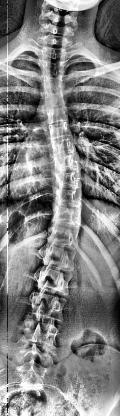Vertebrae: (6, 324, 72, 346), (14, 297, 80, 318), (29, 269, 80, 289), (34, 248, 86, 266), (43, 227, 85, 245), (47, 209, 90, 225), (51, 190, 89, 206), (50, 156, 86, 170), (33, 63, 75, 74), (36, 78, 73, 90), (51, 175, 86, 187), (40, 93, 74, 105), (48, 141, 82, 153), (44, 126, 76, 138), (39, 49, 70, 61), (43, 110, 73, 122)
